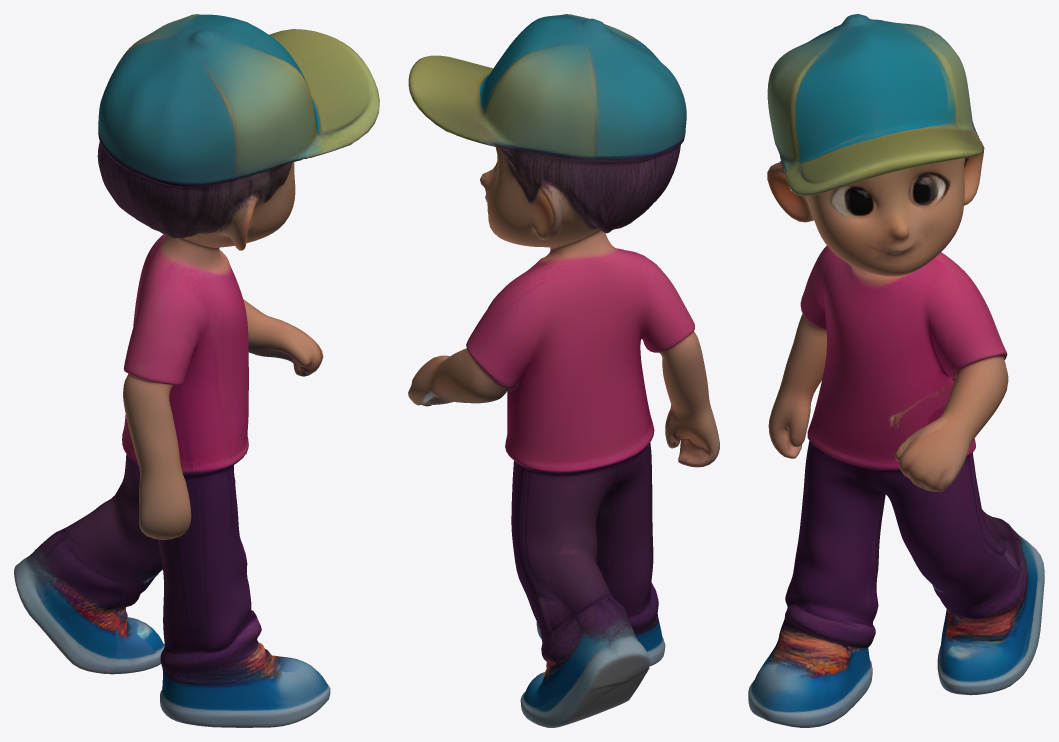
File: niñogorra.glb
3 views of the same model, side by side, from view 1: azimuth 30°, elevation 25°; view 2: azimuth 150°, elevation 25°; view 3: azimuth 270°, elevation 25° (orthographic). The views are drawn at different scales.
Parts seen in each view (by area): view 1: model; view 2: model; view 3: model.
Part boxes in pixels (x1,y1,x2,y2): model: (14,14,379,727); model: (408,14,719,727); model: (748,14,1044,727).
Bounding box in the file's own units: 0.8562 × 1.9 × 0.7554.
1 material, 1 textured.
